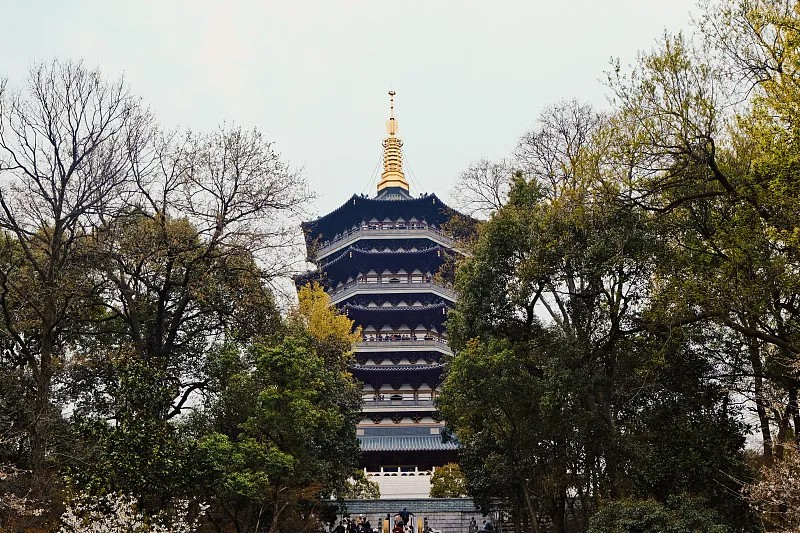Leifeng: (290, 88, 513, 494)
